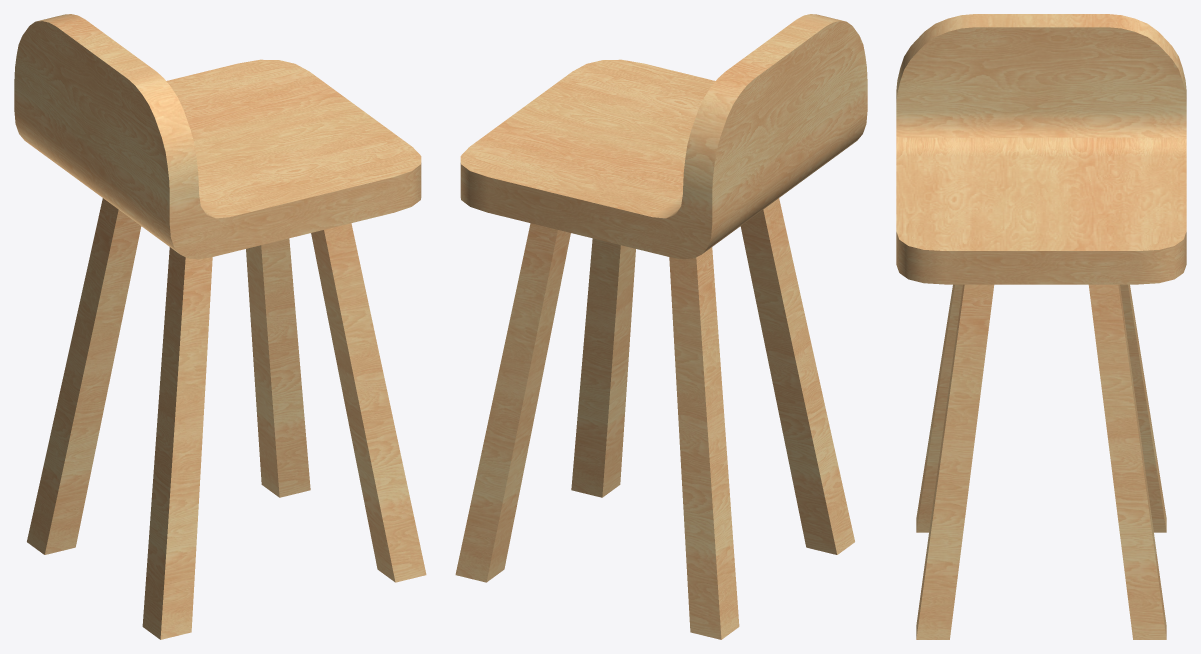
The model's file is chair.fbx.
3 views of the same model, side by side, from view 1: azimuth 30°, elevation 25°; view 2: azimuth 150°, elevation 25°; view 3: azimuth 270°, elevation 25° (orthographic). The views are drawn at different scales.
Parts seen in each view (by area): view 1: chair; view 2: chair; view 3: chair.
Part boxes in pixels (x1,y1,x2,y2): chair: [14, 14, 426, 639]; chair: [455, 14, 867, 639]; chair: [896, 14, 1186, 639].
Bounding box in the file's own units: 11.08 × 21.2 × 11.08.
Materials: 1 (1 with a texture image).
